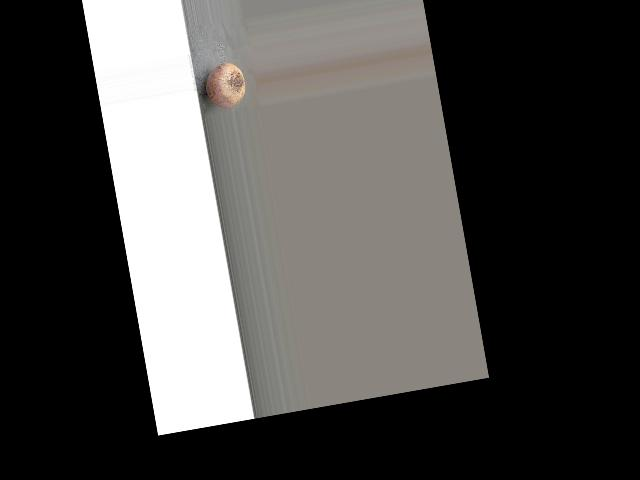beet: (202, 61, 248, 112)
